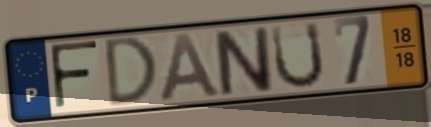7: (331, 13, 373, 90)
A: (157, 31, 225, 103)
D: (103, 34, 160, 110)
F: (47, 39, 102, 113)
N: (210, 24, 277, 99)
U: (269, 19, 327, 92)
